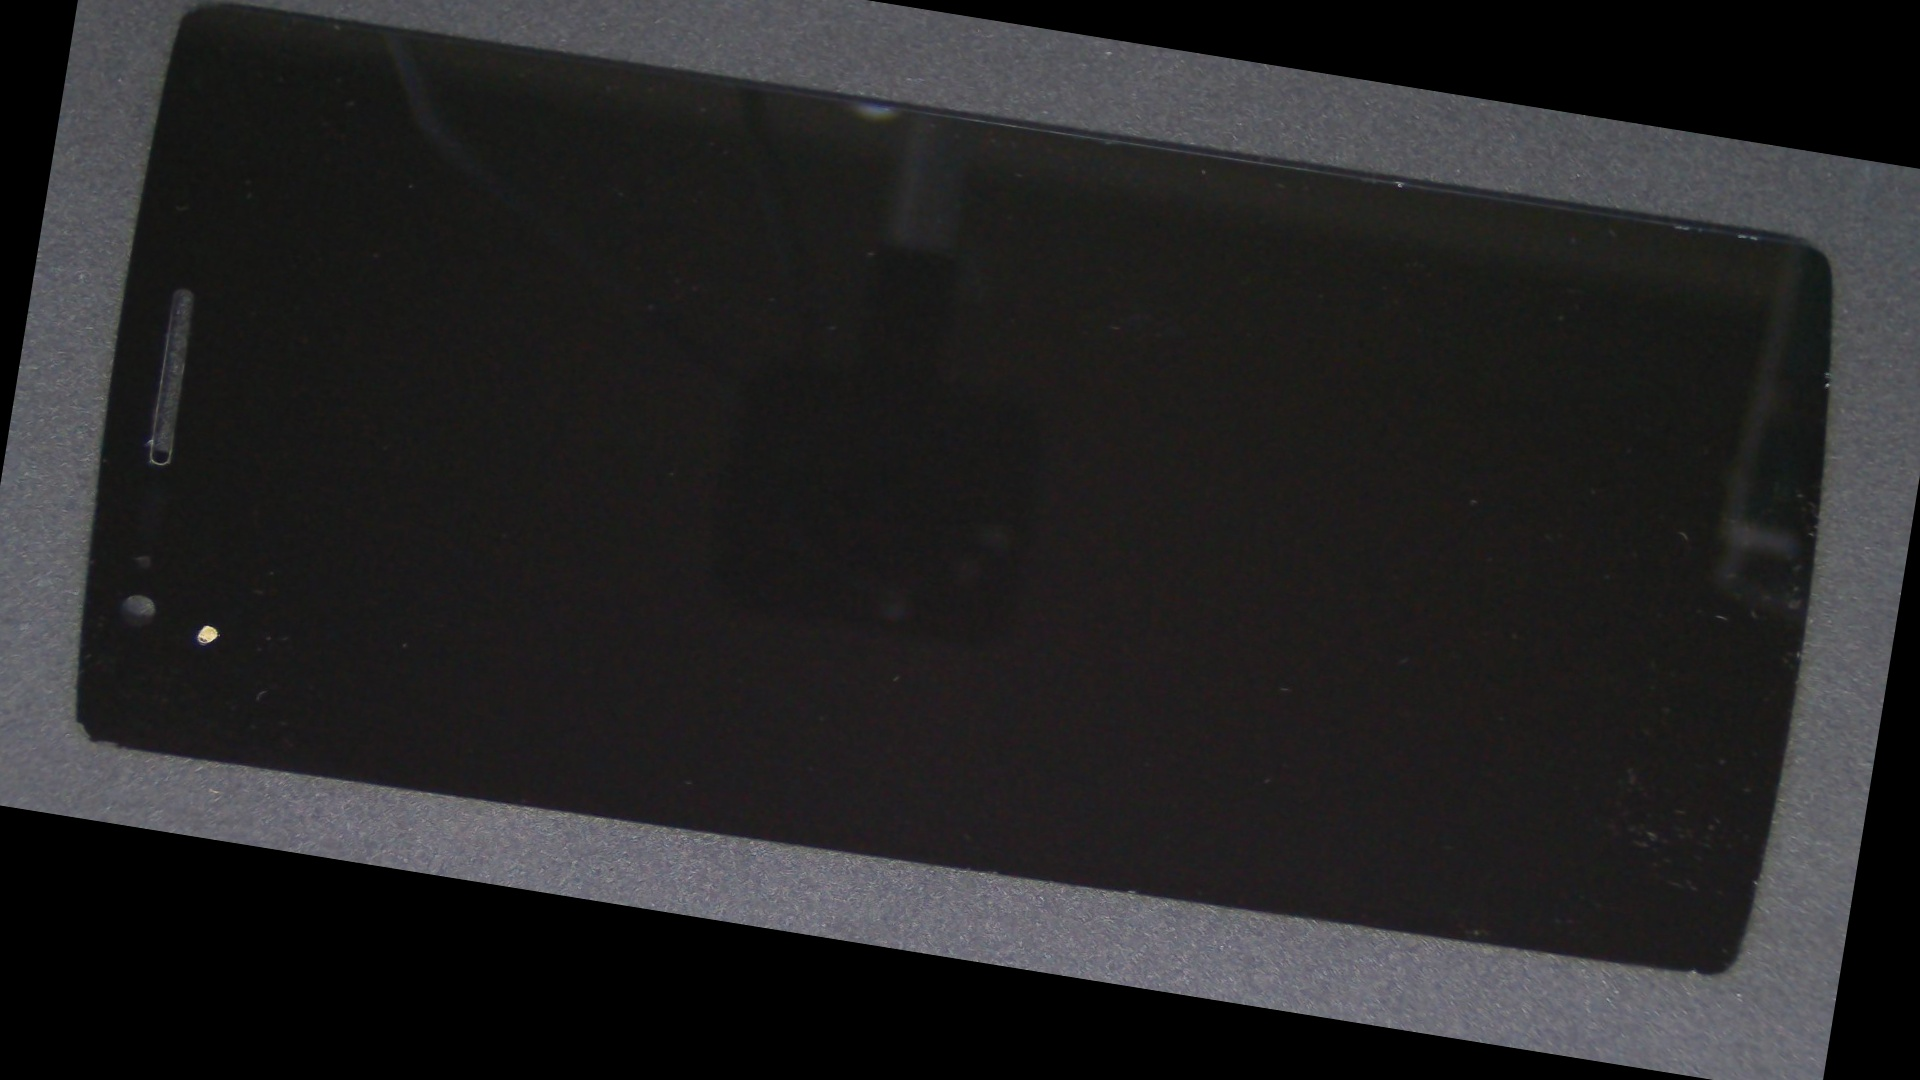oil: (65, 251, 382, 852)
